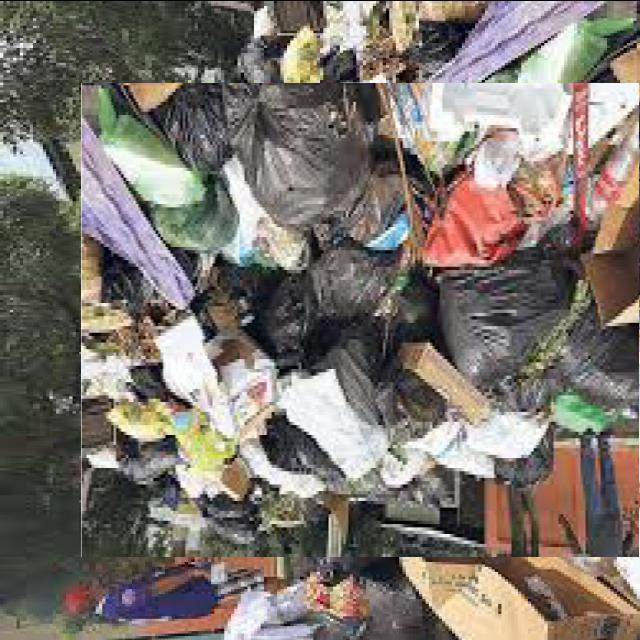Trashbag: (437, 254, 570, 382), (240, 89, 372, 211), (160, 83, 251, 176), (324, 321, 399, 411), (264, 280, 340, 368), (567, 314, 640, 402), (260, 414, 342, 481), (316, 245, 387, 312), (496, 423, 554, 490)
